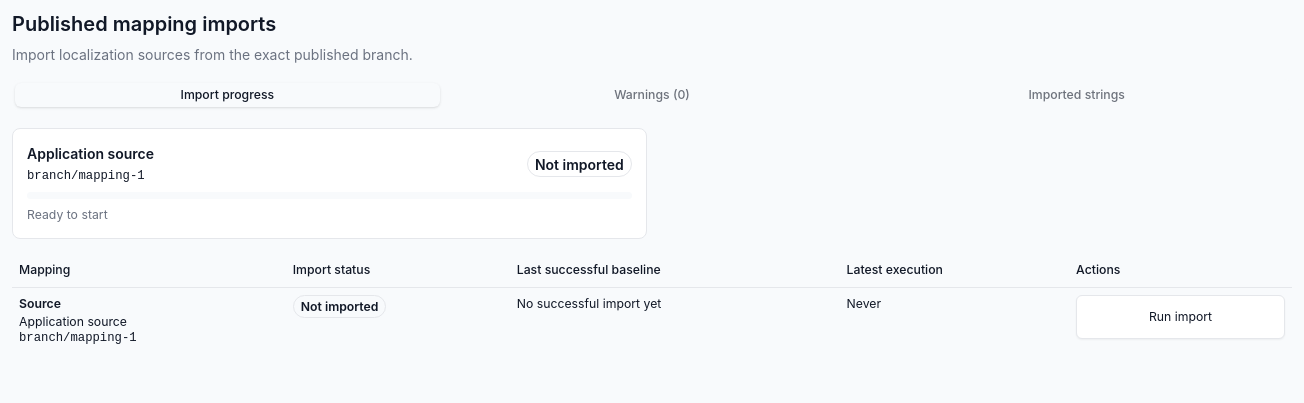
it: published mapping import collection › adopts an accepted import immediately and prevents stale collection rollback, retry=false
Click the button "Run import" at x=1181, y=317, box [1076, 295, 1285, 339]
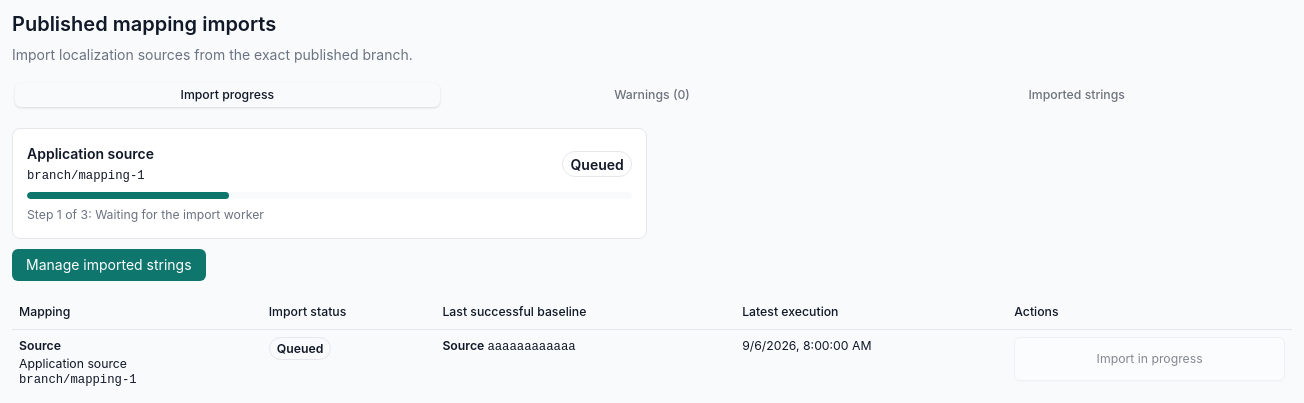
Check: the row with test id "published-import-row-mapping-1" shows "Queued", box [277, 341, 323, 356]
Check: the button "Import in progress" is disabled, box [1014, 337, 1285, 381]
